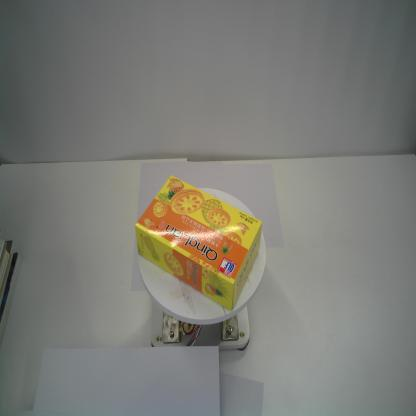Dessert: (132, 173, 266, 313)
